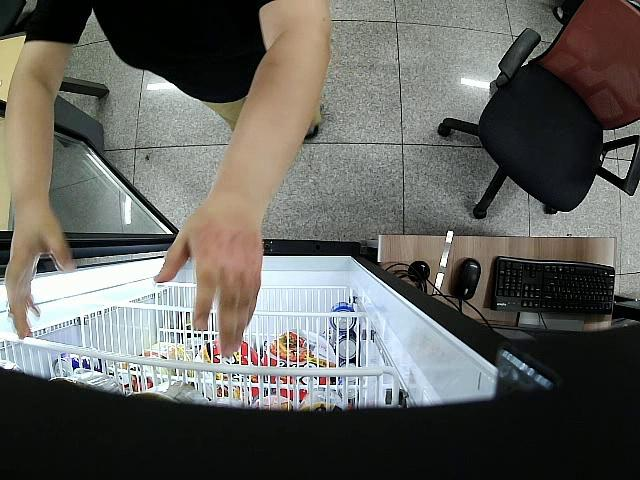00_hand: (154, 205, 263, 357), (6, 212, 75, 341)
